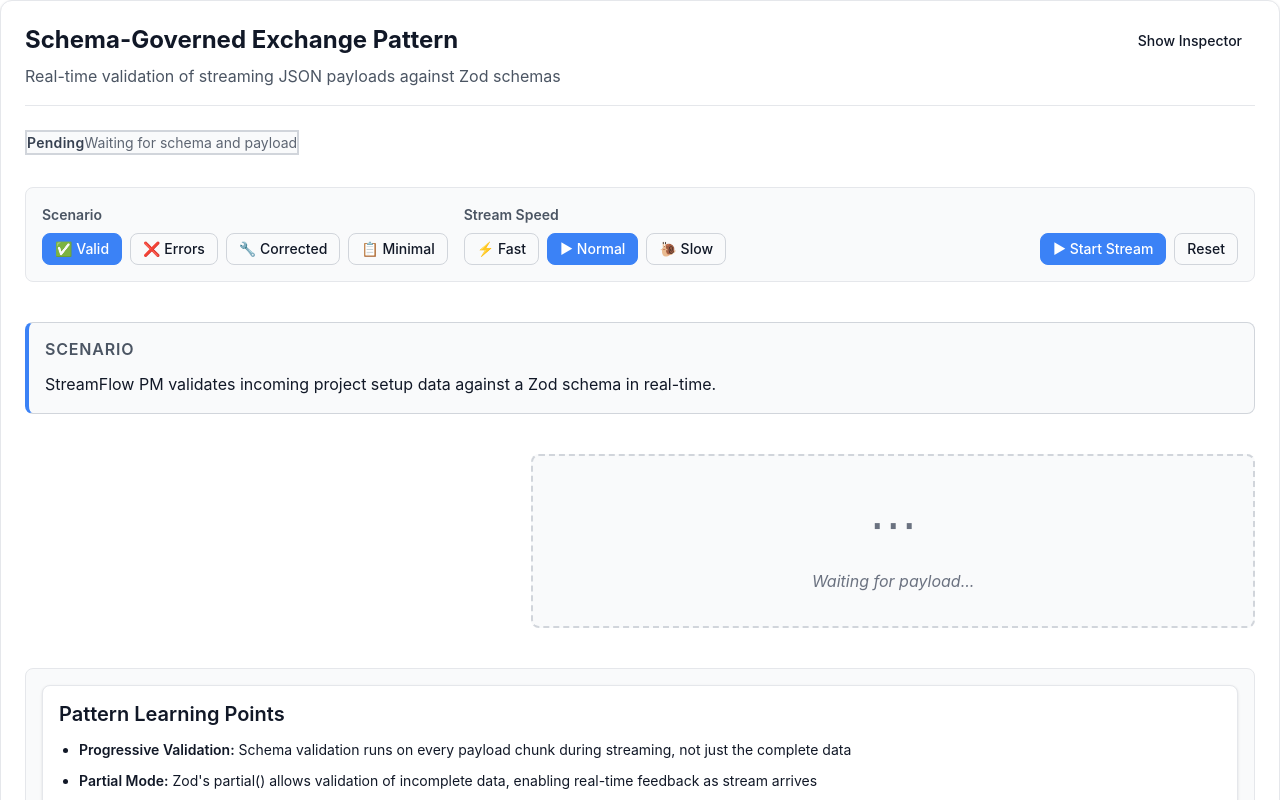
SchemaExchangeDemo › should start stream when Start button is clicked
Step 1. Click the button "▶ Start Stream" → (1103, 249), box [1040, 233, 1166, 265]
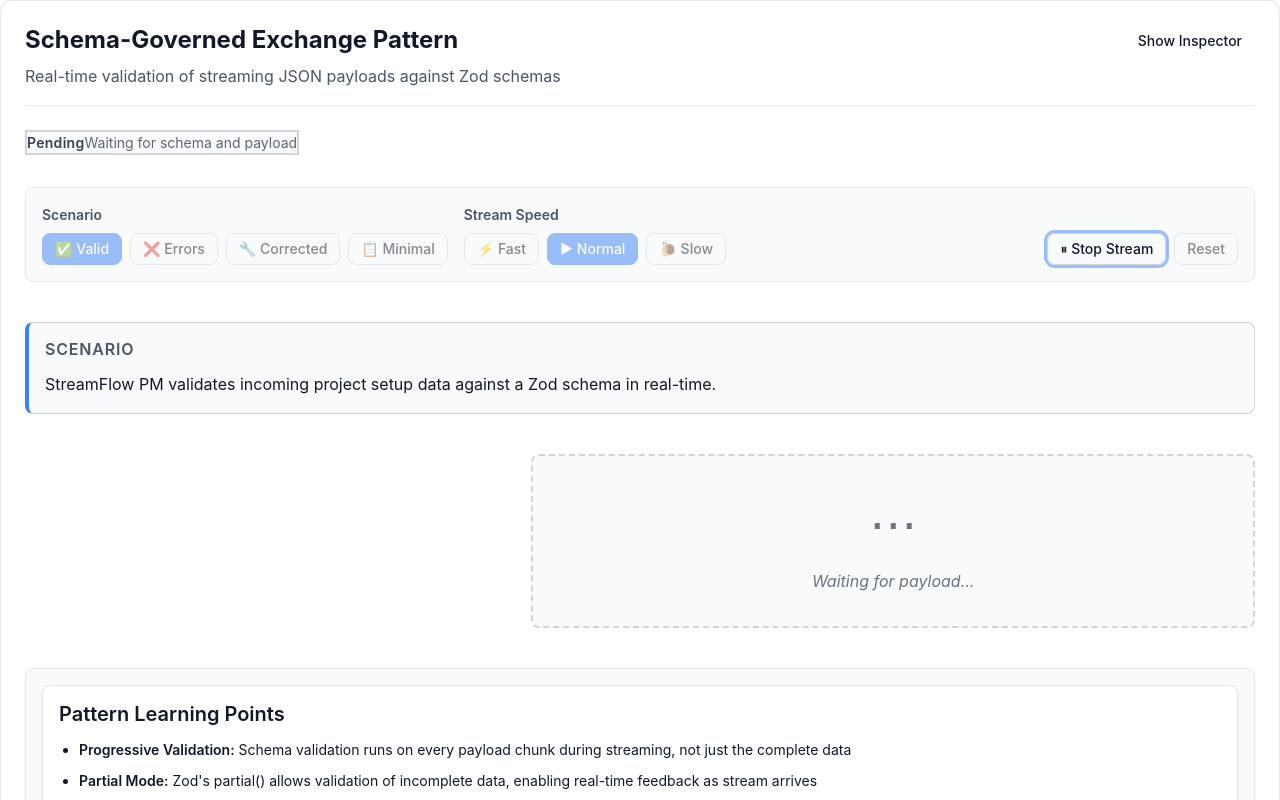
Check: the button "⏸ Stop Stream" is shown, box [1047, 233, 1166, 265]
